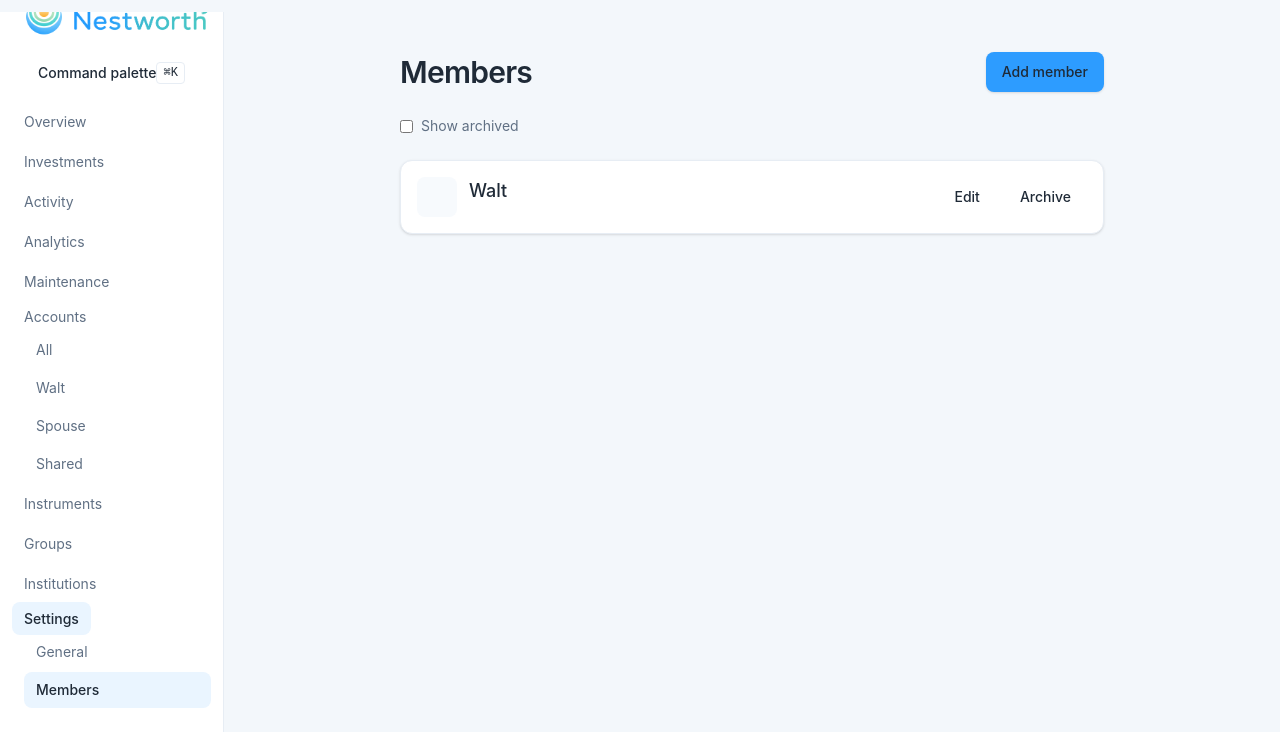
Test: members page › shows server field errors on the name input
(page scrolled)
Expected: the navigation bar named "Household" is shown, [0,12,224,731]
Click the link "Members". click: click(118, 690)
box: [24,672,211,708]
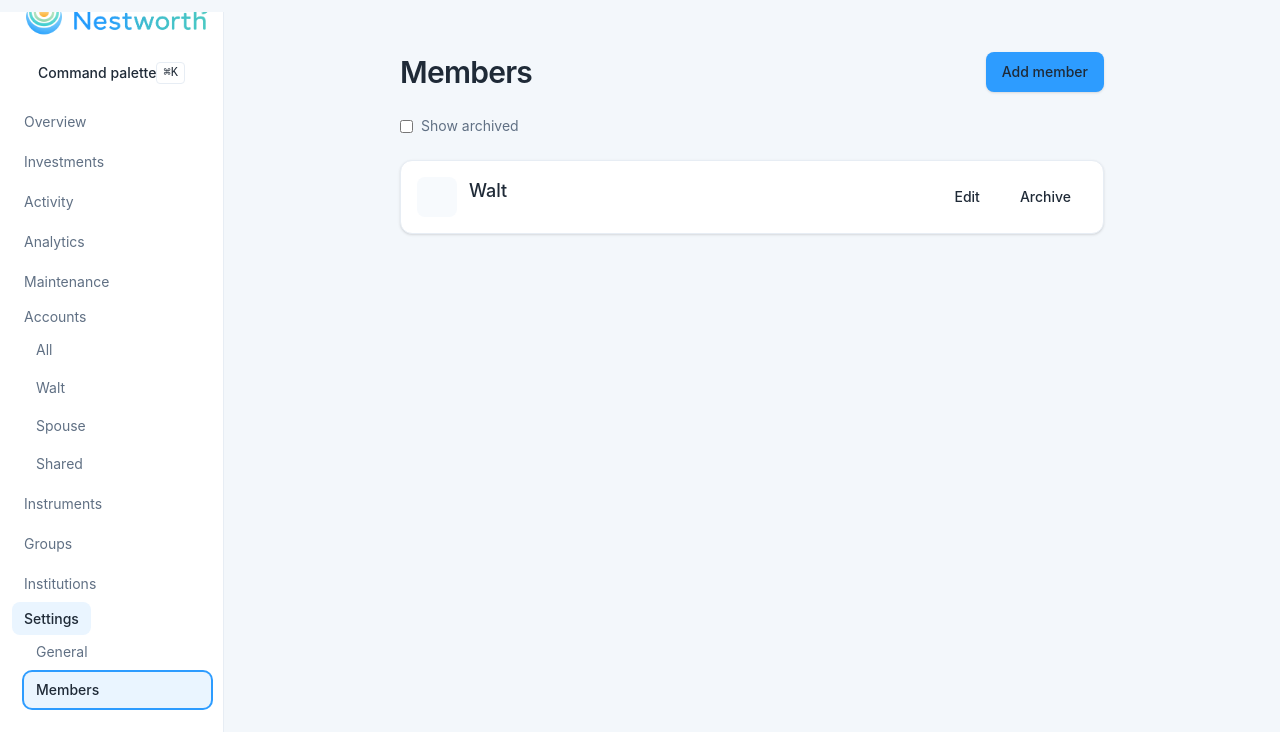
Click the button "Edit". click: click(967, 197)
box: [938,177,996,217]
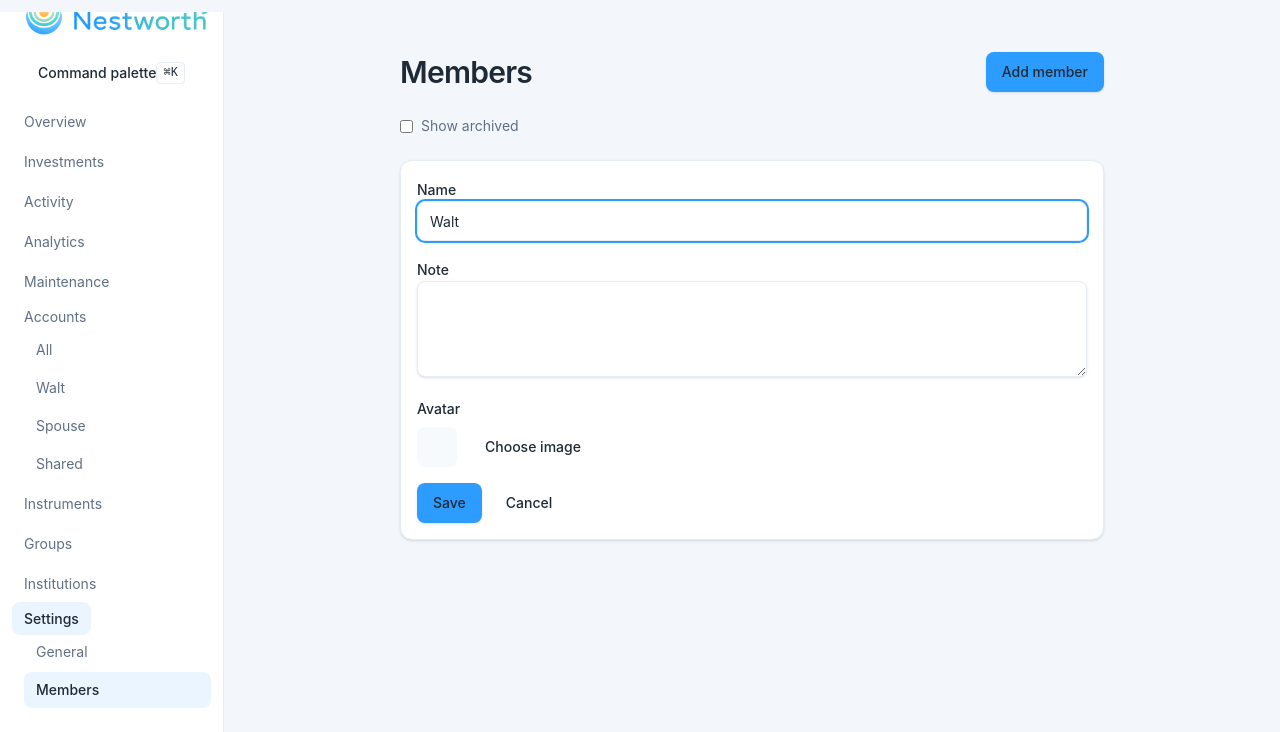
Click the button "Save". click: click(449, 503)
box: [417,483,482,523]
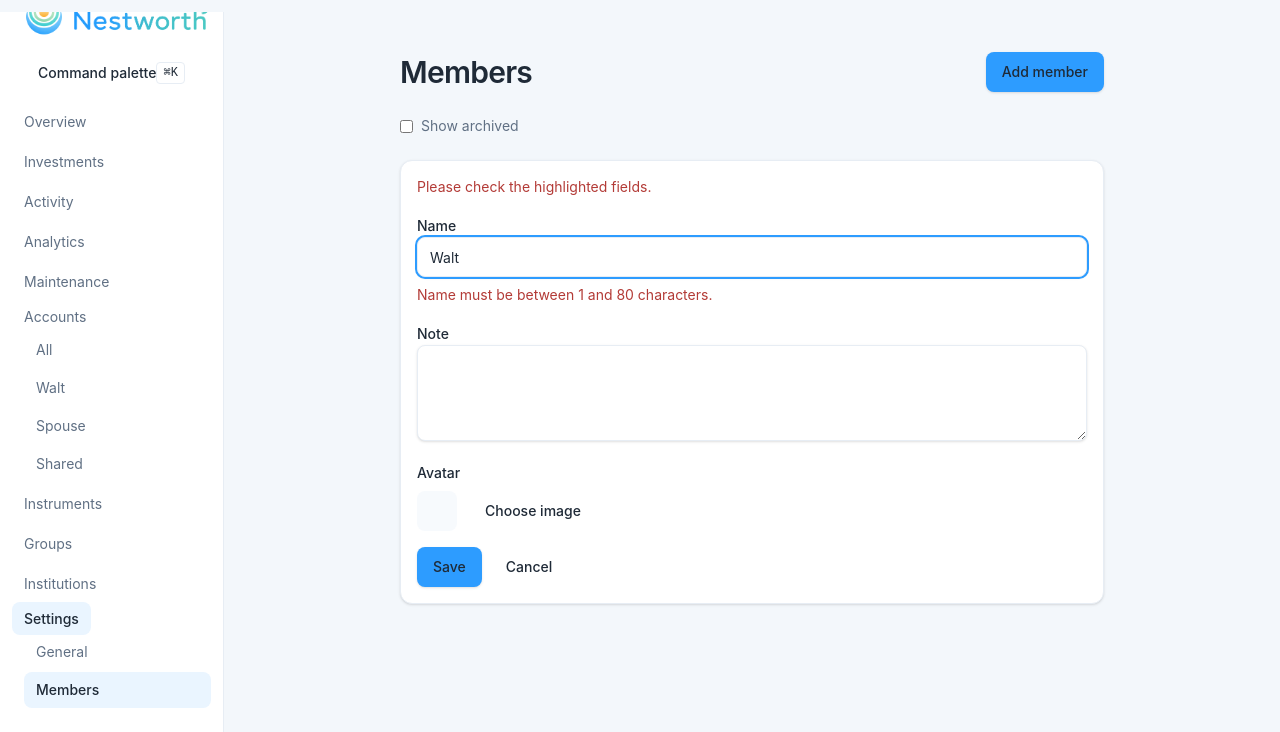
Now the text "Please check the highlighted fields." is shown, box [417,178,651,195]
Now the text "Name must be between 1 and 80 characters." is shown, box [417,286,712,303]
